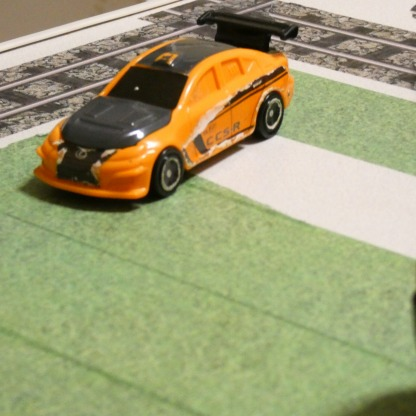car: (35, 12, 295, 202)
